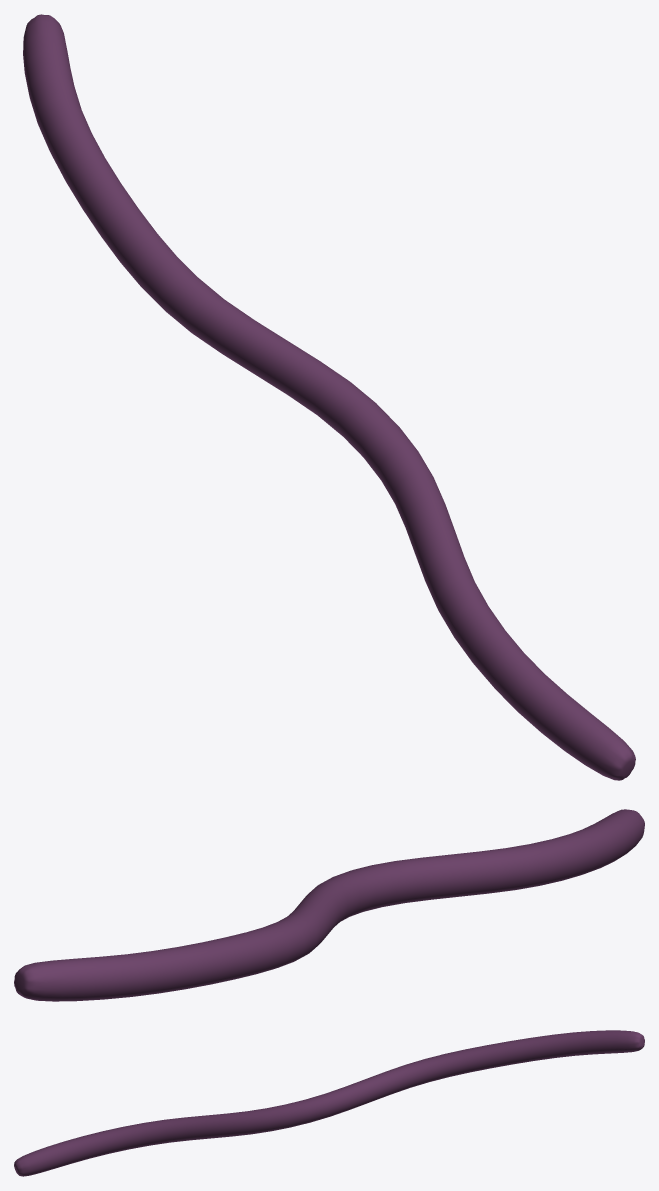
The model's file is frame_13.obj.
3 renders of one model, top to bottom at view 1: azimuth 30°, elevation 25°; view 2: azimuth 150°, elevation 25°; view 3: azimuth 270°, elevation 25°, orthographic. The views are drawn at different scales.
Parts seen in each view (by area): view 1: worm2; view 2: worm2; view 3: worm2.
Part boxes in pixels (bbox=[...]): worm2: bbox=[23, 14, 635, 780]; worm2: bbox=[14, 809, 644, 1001]; worm2: bbox=[14, 1030, 644, 1176].
Size of the model in its own units: 171 by 454 by 1710.
